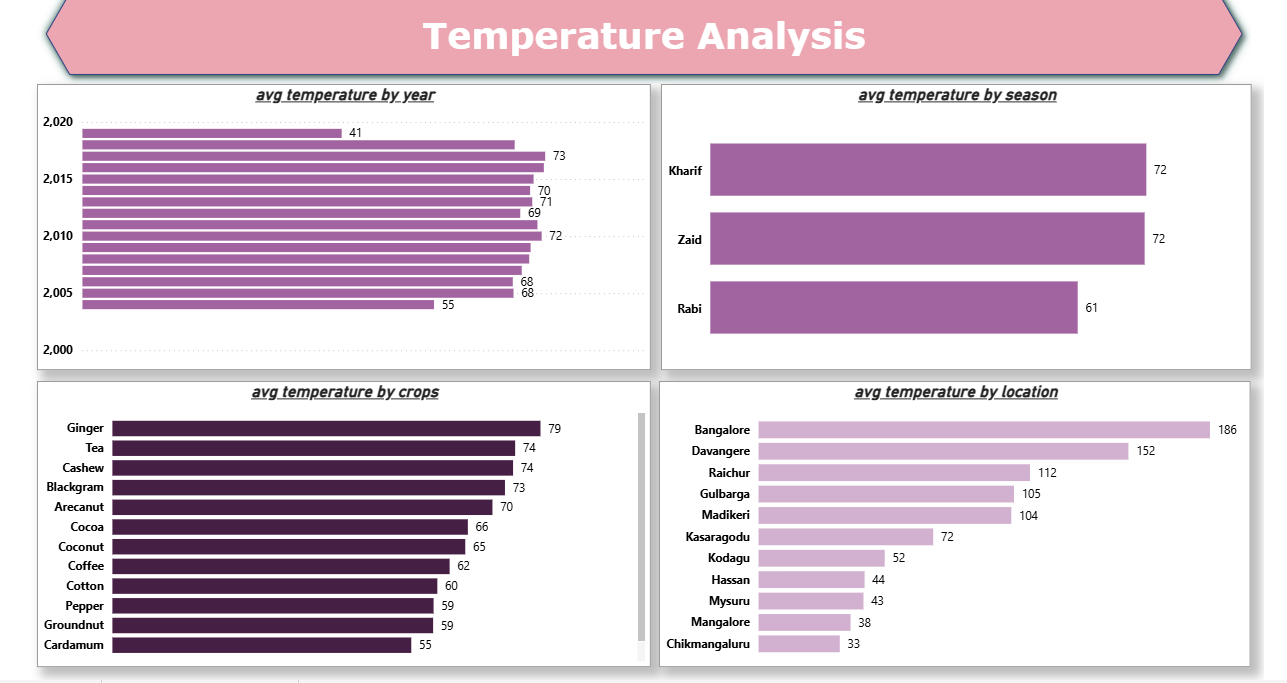

This screenshot's page, from the dashboard's own definition file:
{"tool":"powerbi","page":{"name":"Temperature Analysis","canvas":[1280,720],"ordinal":1},"visuals":[{"type":"shape","box":[10.5,0,1256.3,103.1],"z":0},{"type":"barChart","title":"avg temperature by year","fields":{"Y":["Avg(AGRICULTURE.TEMPERATURE)"],"Category":["AGRICULTURE.YEAR"]},"box":[10.5,103.1,634.9,295.8],"z":1000},{"type":"barChart","title":"avg temperature by season","fields":{"Category":["AGRICULTURE.SEASON"],"Y":["Avg(AGRICULTURE.TEMPERATURE)"]},"box":[655.8,103.1,611,295.8],"z":2000},{"type":"barChart","title":"avg temperature by crops","fields":{"Category":["AGRICULTURE.CROPS"],"Y":["Avg(AGRICULTURE.TEMPERATURE)"]},"box":[10.5,410.8,634.9,295.8],"z":3000},{"type":"barChart","title":"avg temperature by location","fields":{"Category":["AGRICULTURE.LOCATION"],"Y":["Avg(AGRICULTURE.TEMPERATURE)"]},"box":[654.3,410.8,612.4,295.8],"z":4000}]}

Visuals, with their boxes on the page's 1280x720 design canvas (x1, y1, x2, y2). These are canvas units, not pixel positions in the 1287x683 screenshot, which may show the page scaled, cropped or inside an application window:
shape: 10, 0, 1267, 103
"avg temperature by year" barChart: 10, 103, 645, 399
"avg temperature by season" barChart: 656, 103, 1267, 399
"avg temperature by crops" barChart: 10, 411, 645, 707
"avg temperature by location" barChart: 654, 411, 1267, 707
